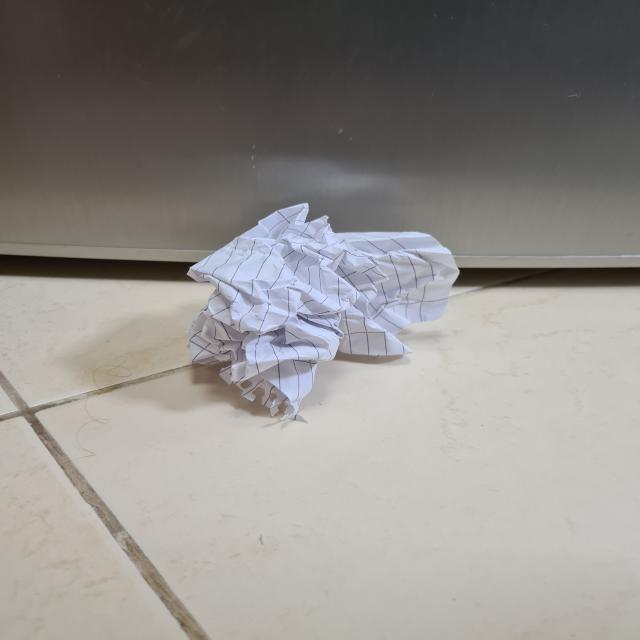Paper: (184, 194, 462, 422)
